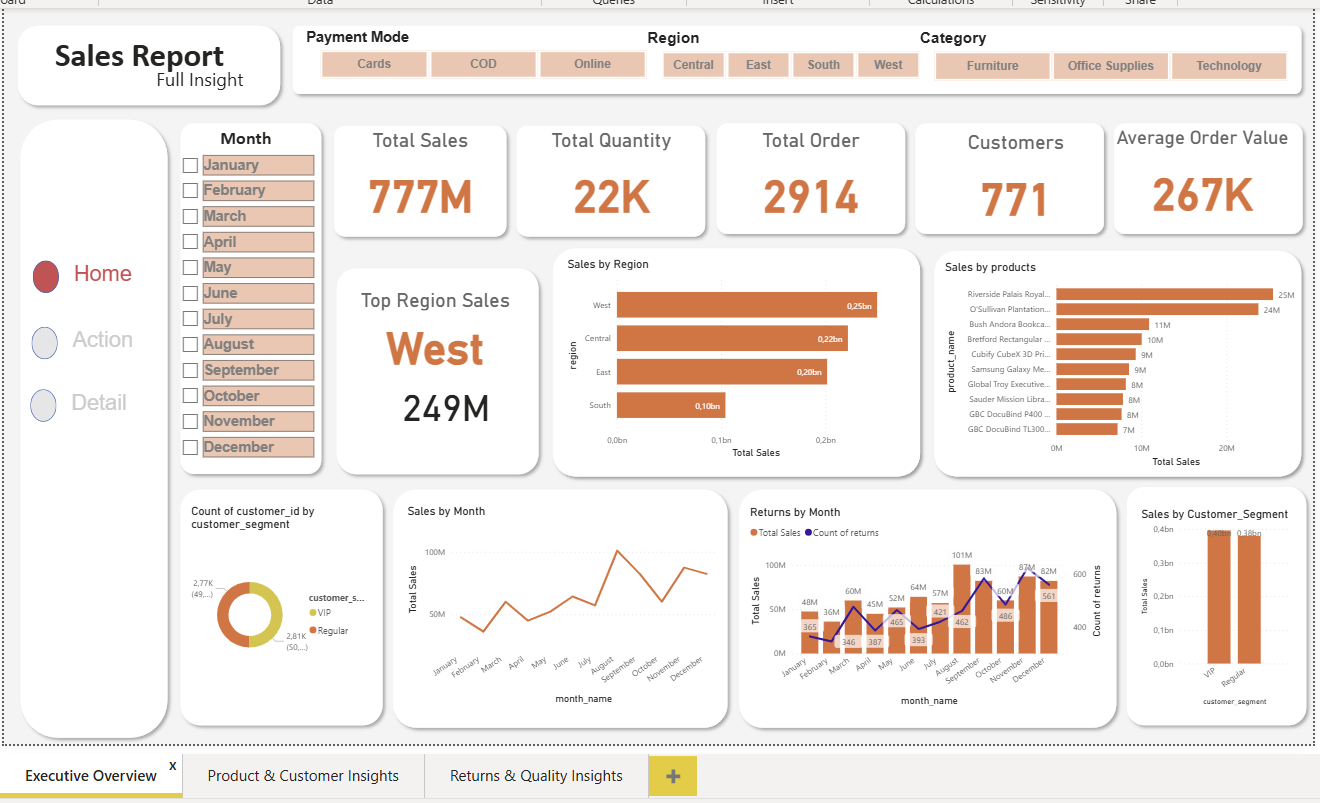

The dashboard page shown, as its layout file describes it:
{"tool":"powerbi","page":{"name":"Executive Overview","canvas":[1600,1000],"ordinal":0},"visuals":[{"type":"slicer","fields":{"Values":["sales_clean.category"]},"box":[50.1,20.7,229.8,79.5],"z":0},{"type":"slicer","fields":{"Values":["sales_clean.month_name"]},"box":[1292.4,25.9,293.7,95],"z":1000},{"type":"slicer","fields":{"Values":["sales_clean.region"]},"box":[611.7,20.7,255.7,79.5],"z":2000},{"type":"card","fields":{"Values":["sales_clean.Total Sales"]},"box":[50.1,157.2,260.9,129.6],"z":3000},{"type":"card","fields":{"Values":["sales_clean.Total Order"]},"box":[1054,155.5,219.4,126.1],"z":5000},{"type":"card","fields":{"Values":["sales_clean.Distinct Customers"]},"box":[1327,159,222.9,122.7],"z":6000},{"type":"card","fields":{"Values":["sales_clean.Total_Quantity"]},"box":[380.1,157.2,231.5,129.6],"z":7000},{"type":"slicer","fields":{"Values":["sales_clean.customer_segment"]},"box":[898.5,27.6,362.9,84.7],"z":8000},{"type":"lineChart","fields":{"Y":["sales_clean.Total Sales"],"Category":["sales_clean.month_name"]},"box":[46.7,343.8,651.4,319.7],"z":9000},{"type":"clusteredBarChart","fields":{"Category":["sales_clean.product_name"],"Y":["sales_clean.Total Sales"]},"box":[762,343.8,743,319.7],"z":10000},{"type":"clusteredBarChart","fields":{"Category":["sales_clean.region"],"Y":["sales_clean.Total Sales"]},"box":[46.7,701.5,485.5,250.5],"z":11000},{"type":"clusteredBarChart","fields":{"Category":["sales_clean.customer_segment"],"Y":["sales_clean.Total Sales"]},"box":[575.4,701.5,464.8,245.4],"z":12000},{"type":"clusteredBarChart","fields":{"Y":["CountNonNull(sales_clean.returns)"],"Category":["sales_clean.month_name"]},"box":[1093.7,701.5,464.8,279.9],"z":13000},{"type":"slicer","fields":{"Values":["sales_clean.sub-category"]},"box":[311,20.7,255.7,79.5],"z":14000}]}

Visuals, with their boxes on the page's 1600x1000 design canvas (x1, y1, x2, y2). These are canvas units, not pixel positions in the 1320x803 screenshot, which may show the page scaled, cropped or inside an application window:
slicer - sales_clean.category: [x1=50, y1=21, x2=280, y2=100]
slicer - sales_clean.month_name: [x1=1292, y1=26, x2=1586, y2=121]
slicer - sales_clean.region: [x1=612, y1=21, x2=867, y2=100]
card - sales_clean.Total Sales: [x1=50, y1=157, x2=311, y2=287]
card - sales_clean.Total Order: [x1=1054, y1=156, x2=1273, y2=282]
card - sales_clean.Distinct Customers: [x1=1327, y1=159, x2=1550, y2=282]
card - sales_clean.Total_Quantity: [x1=380, y1=157, x2=612, y2=287]
slicer - sales_clean.customer_segment: [x1=898, y1=28, x2=1261, y2=112]
lineChart - sales_clean.Total Sales x sales_clean.month_name: [x1=47, y1=344, x2=698, y2=664]
clusteredBarChart - sales_clean.product_name x sales_clean.Total Sales: [x1=762, y1=344, x2=1505, y2=664]
clusteredBarChart - sales_clean.region x sales_clean.Total Sales: [x1=47, y1=702, x2=532, y2=952]
clusteredBarChart - sales_clean.customer_segment x sales_clean.Total Sales: [x1=575, y1=702, x2=1040, y2=947]
clusteredBarChart - CountNonNull(sales_clean.returns) x sales_clean.month_name: [x1=1094, y1=702, x2=1558, y2=981]
slicer - sales_clean.sub-category: [x1=311, y1=21, x2=567, y2=100]
